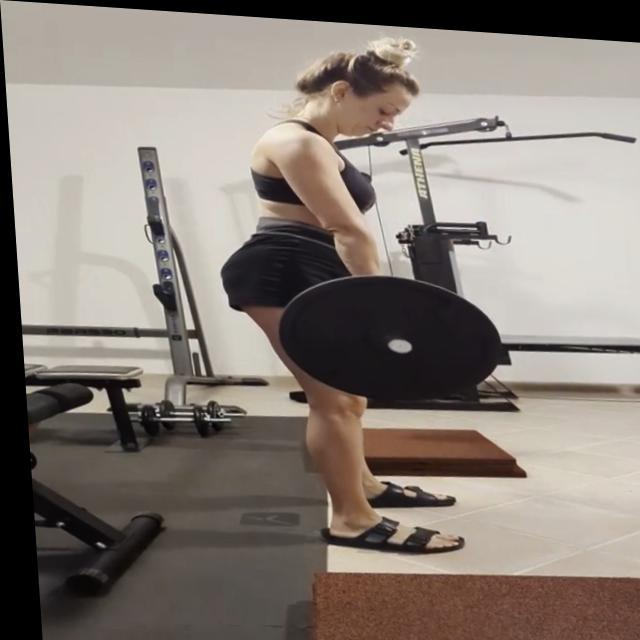barbell: (268, 262, 507, 405)
